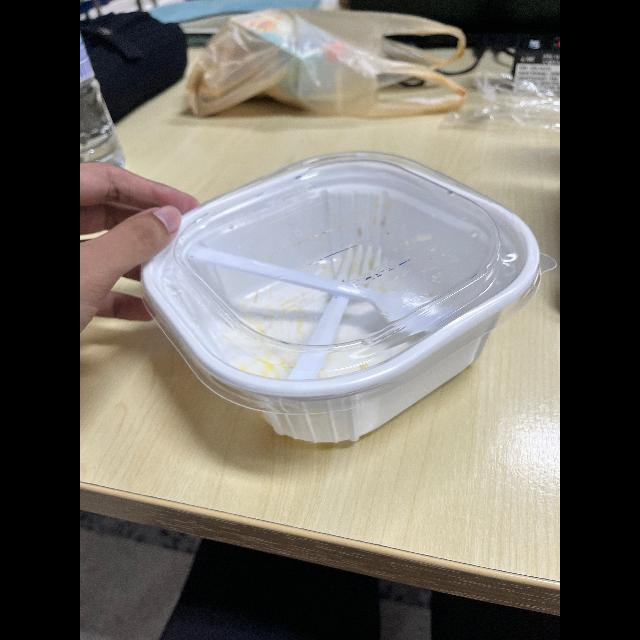plastic_box: (137, 148, 551, 444)
